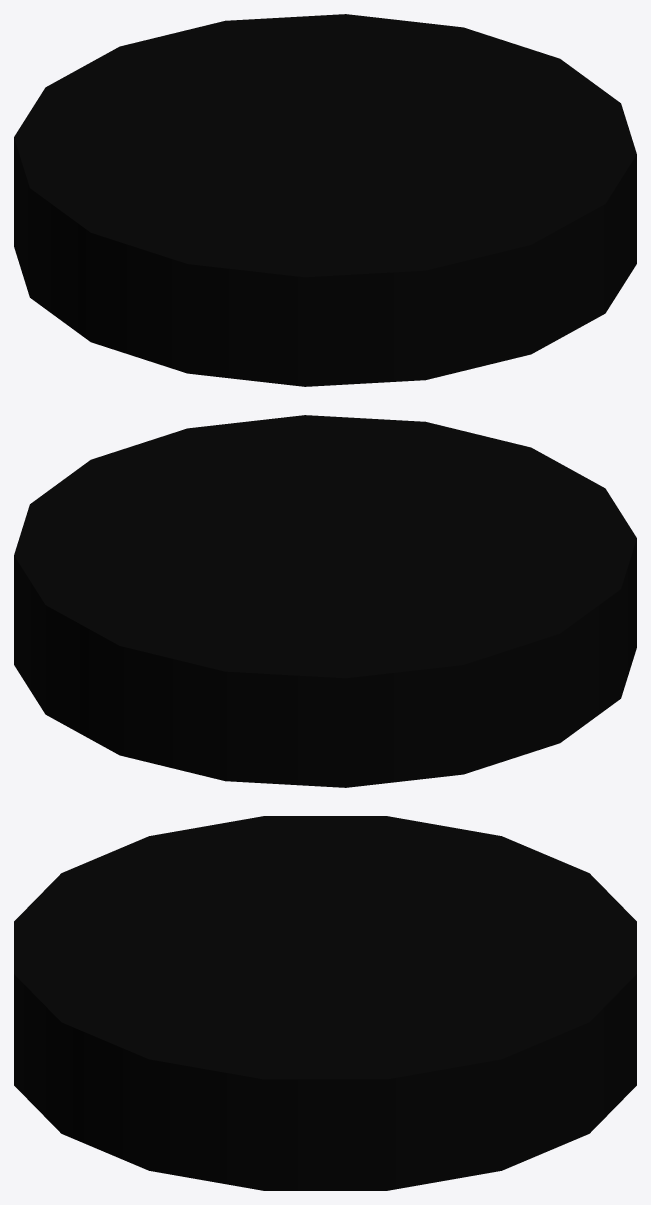
Rendered from post_nw_up.obj.
3 views of the same model, one above another, from view 1: azimuth 30°, elevation 25°; view 2: azimuth 150°, elevation 25°; view 3: azimuth 270°, elevation 25° (orthographic).
Parts seen in each view (by area): view 1: post_nw_up__post_nw_up; view 2: post_nw_up__post_nw_up; view 3: post_nw_up__post_nw_up.
Boxes of the visible parts, bbox=[...] form: post_nw_up__post_nw_up: bbox=[14, 14, 636, 386]; post_nw_up__post_nw_up: bbox=[14, 415, 636, 787]; post_nw_up__post_nw_up: bbox=[14, 816, 636, 1190].
Size of the model in its own units: 0.19 by 0.0375 by 0.19.
